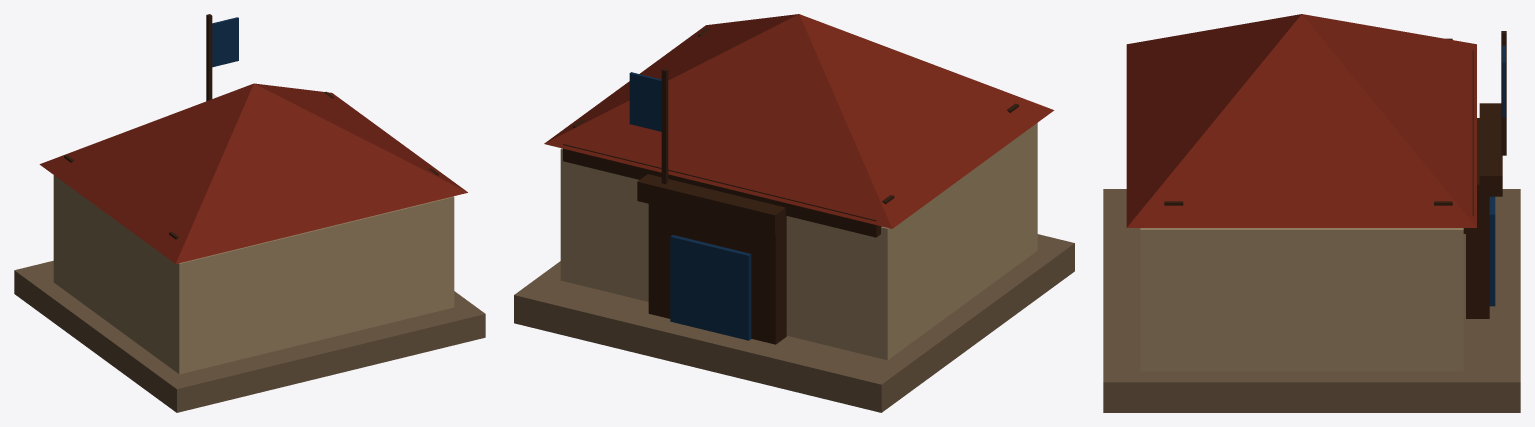
File: Stable_authoring.obj
3 renders of one model, left to right at view 1: azimuth 30°, elevation 25°; view 2: azimuth 150°, elevation 25°; view 3: azimuth 270°, elevation 25°, orthographic. The views are drawn at different scales.
Visible parts, largest first — view 1: StableWalls, Roof, Foundation, Banner, BannerPole; view 2: Roof, StableWalls, Foundation, EntranceFrame, Gate, GateLintel, TimberBeam, Banner, BannerPole; view 3: Roof, StableWalls, Foundation, EntranceFrame, GateLintel, Gate, BannerPole, TimberBeam.
Boxes of the visible parts, bbox=[...] form: StableWalls: bbox=[53, 175, 454, 374]; Roof: bbox=[39, 83, 467, 263]; Foundation: bbox=[14, 260, 485, 412]; Banner: bbox=[212, 17, 238, 67]; BannerPole: bbox=[206, 14, 212, 101]; Roof: bbox=[544, 14, 1054, 228]; StableWalls: bbox=[560, 123, 1037, 360]; Foundation: bbox=[514, 234, 1074, 412]; EntranceFrame: bbox=[648, 204, 786, 344]; Gate: bbox=[670, 235, 751, 340]; GateLintel: bbox=[637, 174, 785, 234]; TimberBeam: bbox=[563, 144, 881, 237]; Banner: bbox=[629, 72, 661, 131]; BannerPole: bbox=[661, 68, 668, 184]; Roof: bbox=[1126, 14, 1476, 227]; StableWalls: bbox=[1140, 228, 1463, 371]; Foundation: bbox=[1103, 189, 1520, 412]; EntranceFrame: bbox=[1466, 118, 1489, 318]; GateLintel: bbox=[1479, 103, 1502, 196]; Gate: bbox=[1489, 196, 1495, 306]; BannerPole: bbox=[1501, 31, 1506, 155]; TimberBeam: bbox=[1463, 50, 1473, 233].
Size of the model in its own units: 6.8 by 5 by 6.2.
